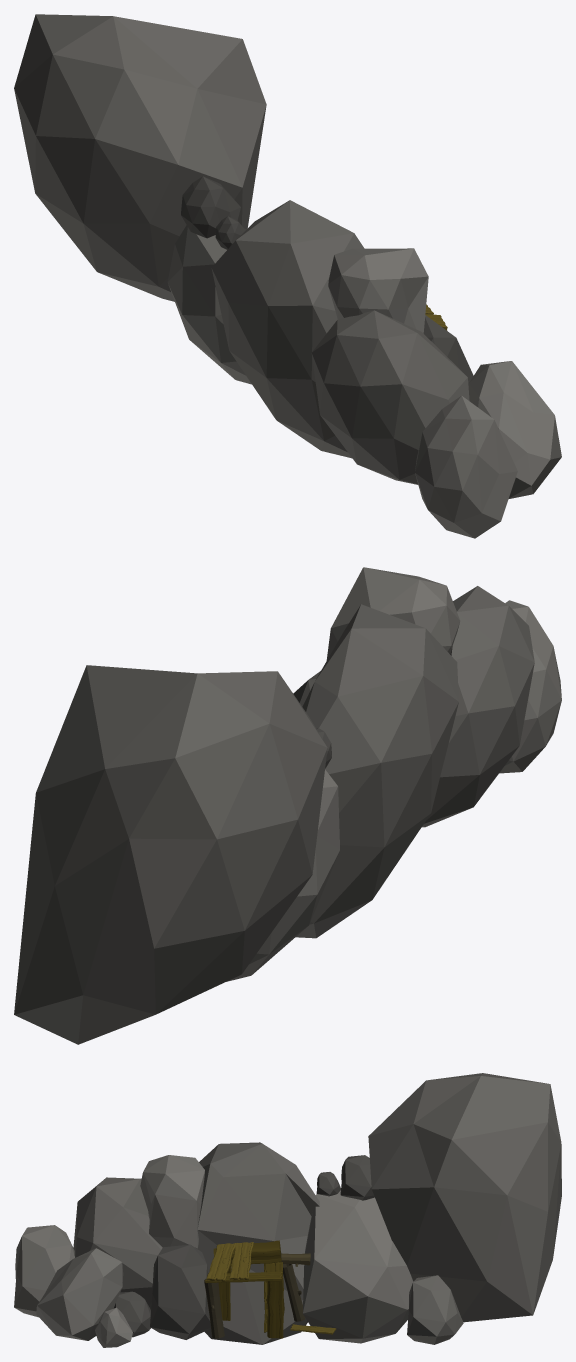
The model's file is EntradaACueva.fbx.
3 renders of one model, top to bottom at view 1: azimuth 30°, elevation 25°; view 2: azimuth 150°, elevation 25°; view 3: azimuth 270°, elevation 25°, orthographic. The views are drawn at different scales.
Visible parts, largest first — view 1: pPlatonic3, pPlatonic4, pPlatonic1, pPlatonic10, pPlatonic11, pPlatonic13, pPlatonic2, pPlatonic6, pPlatonic8, pPlatonic7; view 2: pPlatonic3, pPlatonic4, pPlatonic1, pPlatonic13, pPlatonic2, pPlatonic10; view 3: pPlatonic3, pPlatonic4, pPlatonic2, pPlatonic1, pPlatonic11, pPlatonic13, pPlatonic8, pPlatonic10, pPlatonic5, pPlatonic6, pPlatonic12, pPlatonic9 (+10 smaller).
Boxes of the visible parts, x1,y1,x2,y2 form: pPlatonic3: (14, 14, 266, 301); pPlatonic4: (211, 200, 364, 458); pPlatonic1: (311, 310, 469, 484); pPlatonic10: (415, 395, 517, 538); pPlatonic11: (468, 361, 561, 498); pPlatonic13: (328, 248, 428, 333); pPlatonic2: (167, 225, 251, 384); pPlatonic6: (181, 176, 240, 238); pPlatonic8: (423, 315, 473, 383); pPlatonic7: (215, 216, 245, 249); pPlatonic3: (14, 665, 327, 1044); pPlatonic4: (296, 604, 458, 938); pPlatonic1: (422, 586, 534, 827); pPlatonic13: (326, 567, 460, 660); pPlatonic2: (227, 769, 339, 981); pPlatonic10: (499, 600, 561, 773); pPlatonic3: (368, 1073, 561, 1322); pPlatonic4: (197, 1142, 319, 1344); pPlatonic2: (302, 1190, 413, 1343); pPlatonic1: (73, 1177, 162, 1309); pPlatonic11: (36, 1248, 123, 1340); pPlatonic13: (140, 1155, 204, 1248); pPlatonic8: (150, 1244, 210, 1339); pPlatonic10: (14, 1225, 74, 1317); pPlatonic5: (407, 1275, 463, 1344); pPlatonic6: (340, 1155, 374, 1200); pPlatonic12: (95, 1307, 132, 1347); pPlatonic9: (113, 1291, 150, 1337).
Bounding box in the file's own units: 15.52 × 20.23 × 40.96.
